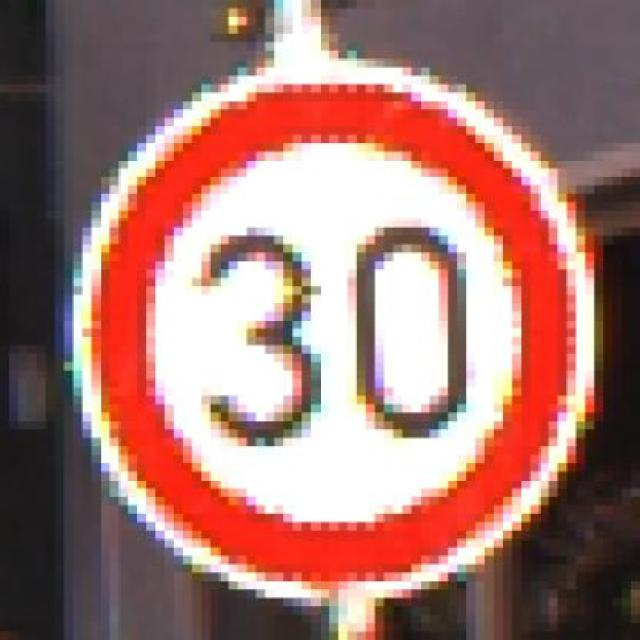Speed Limit 30 KMPh: (36, 33, 613, 615)
